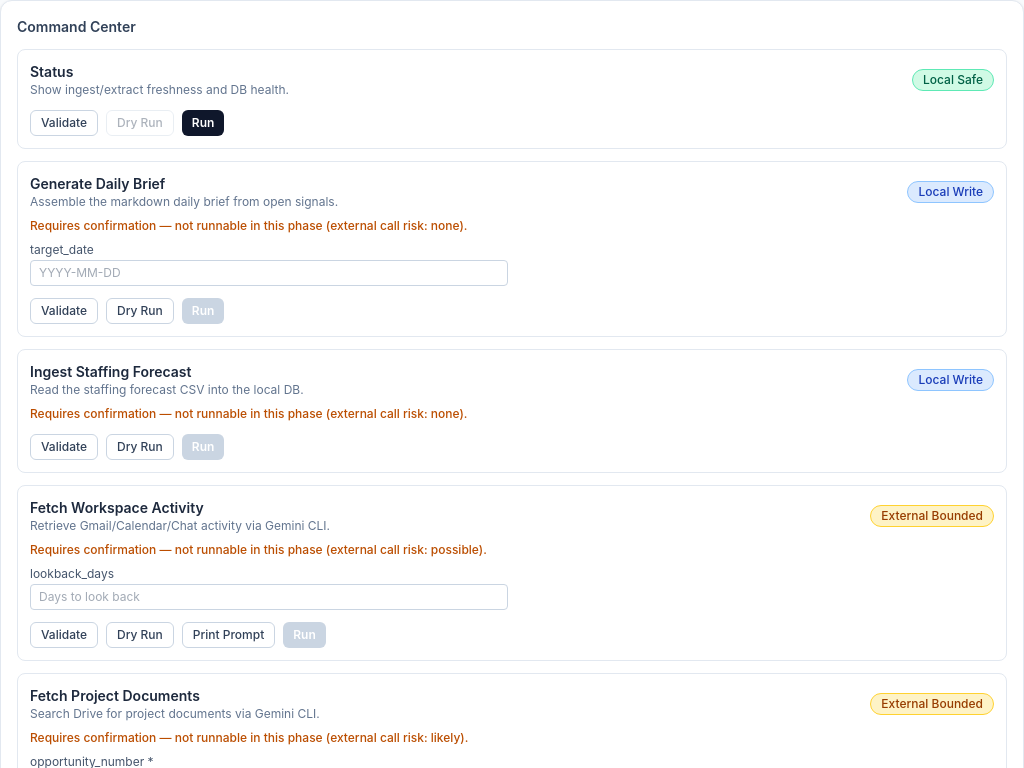
Scenario: CommandCenter › runs a safe command and displays stdout
This screenshot has width=1024, height=768.
Click the button "Run" below "Status".
click(203, 123)  # box [182,110,224,136]
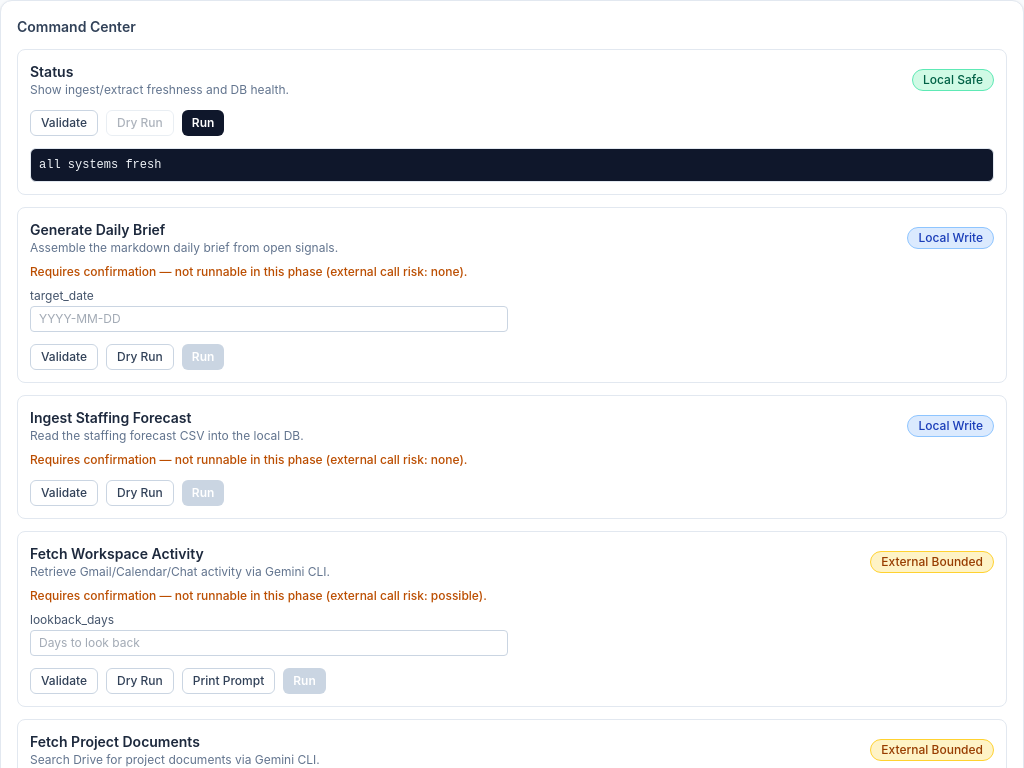
Expected: the text "all systems fresh" is shown, [39,158,161,172]
